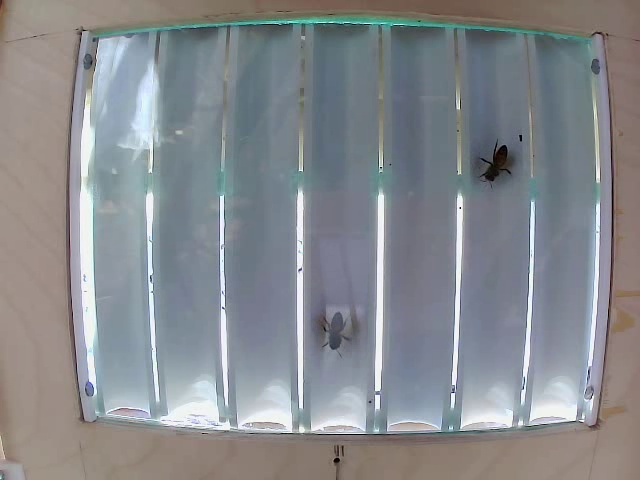bee: (470, 135, 515, 188), (312, 313, 356, 357)
